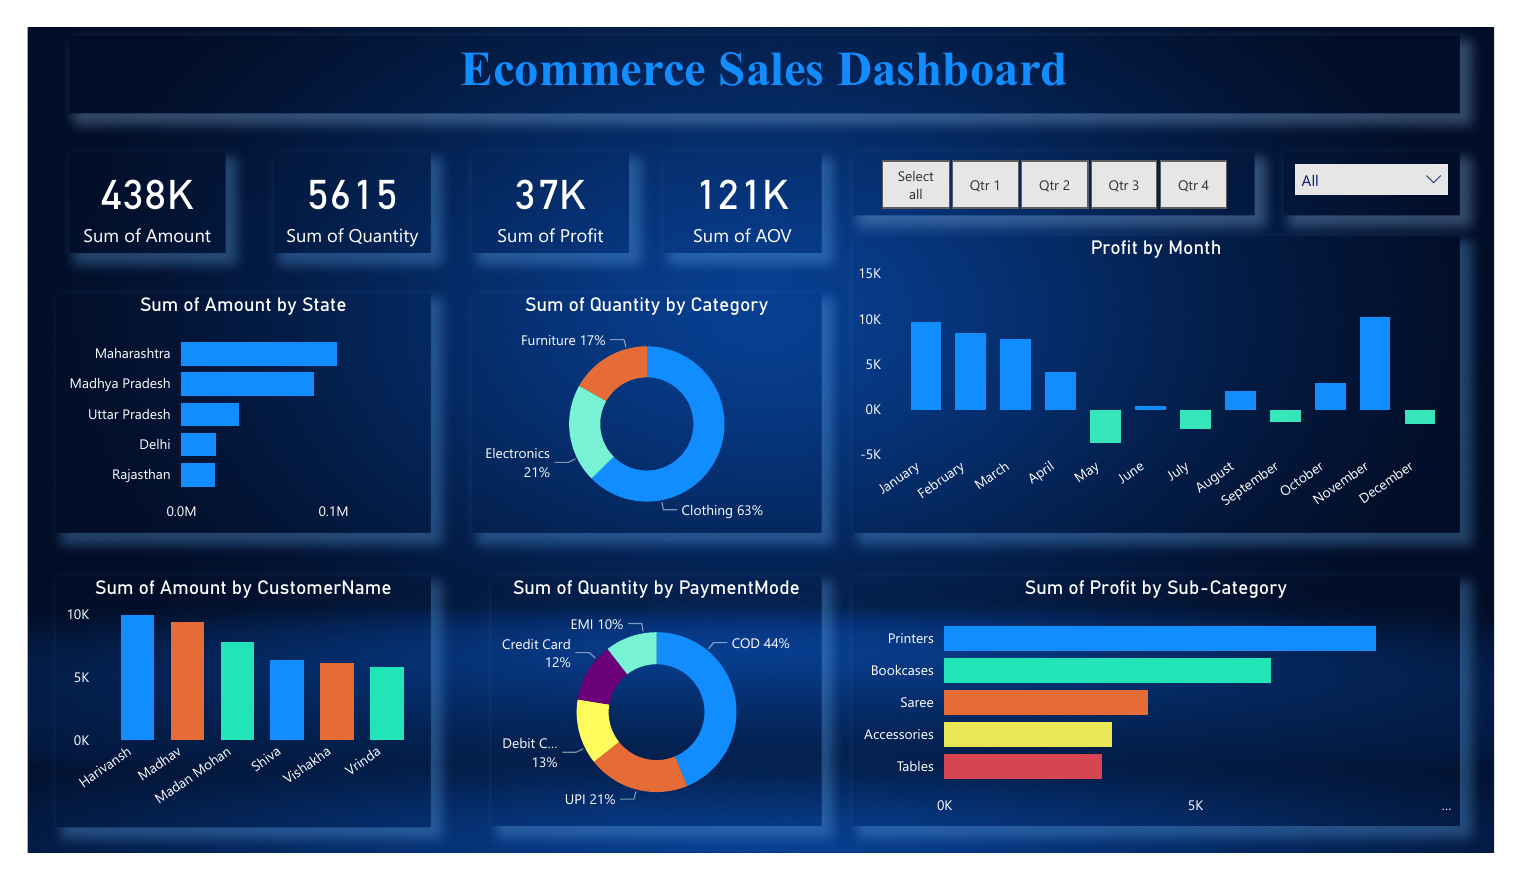

The dashboard page shown, as its layout file describes it:
{"tool":"powerbi","page":{"name":"Page 1","canvas":[1280,720],"ordinal":0},"visuals":[{"type":"textbox","box":[36,6.8,1213.9,68.1],"z":0},{"type":"columnChart","title":"Profit by Month","fields":{"Category":["Orders.Order Date.Variation.Date Hierarchy.Month"],"Y":["Sum(Details.Profit)"]},"box":[719.8,181.9,530.1,258.7],"z":1000},{"type":"barChart","fields":{"Category":["Details.Sub-Category"],"Y":["Sum(Details.Profit)"]},"box":[719.8,478.5,530.1,218.8],"z":2000},{"type":"donutChart","fields":{"Category":["Details.Category"],"Y":["Sum(Details.Quantity)"]},"box":[388.1,232.5,304.4,208.1],"z":3000},{"type":"donutChart","fields":{"Category":["Details.PaymentMode"],"Y":["Sum(Details.Quantity)"]},"box":[404.6,478.5,287.9,218.8],"z":4000},{"type":"card","fields":{"Values":["Sum(Details.Amount)"]},"box":[36,108.9,137,88.5],"z":5000},{"type":"card","fields":{"Values":["Sum(Details.Quantity)"]},"box":[215,108.9,137.1,88.5],"z":6000},{"type":"card","fields":{"Values":["Sum(Details.Profit)"]},"box":[388.1,108.9,137.1,88.5],"z":7000},{"type":"card","fields":{"Values":["Sum(Details.AOV)"]},"box":[555.4,108.9,137.1,88.5],"z":8000},{"type":"barChart","fields":{"Category":["Orders.State"],"Y":["Sum(Details.Amount)"]},"box":[25.3,232.5,326.8,208.1],"z":9000},{"type":"columnChart","fields":{"Category":["Orders.CustomerName"],"Y":["Sum(Details.Amount)"]},"box":[25,479,327,219],"z":10000},{"type":"slicer","fields":{"Values":["Orders.Order Date.Variation.Date Hierarchy.Quarter"]},"box":[719.8,108.9,351.1,55.4],"z":11000},{"type":"slicer","fields":{"Values":["Orders.State"]},"box":[1096.2,108.9,153.7,55.4],"z":12000}]}

Visuals, with their boxes in screenshot pixels (x1, y1, x2, y2), scaled from the page's 1280x720 canvas onto the 1522x880 screenshot:
textbox: (43,8,1486,92)
"Profit by Month" columnChart: (856,222,1486,539)
barChart - Details.Sub-Category x Sum(Details.Profit): (856,585,1486,852)
donutChart - Details.Category x Sum(Details.Quantity): (461,284,823,539)
donutChart - Details.PaymentMode x Sum(Details.Quantity): (481,585,823,852)
card - Sum(Details.Amount): (43,133,206,241)
card - Sum(Details.Quantity): (256,133,419,241)
card - Sum(Details.Profit): (461,133,624,241)
card - Sum(Details.AOV): (660,133,823,241)
barChart - Orders.State x Sum(Details.Amount): (30,284,419,539)
columnChart - Orders.CustomerName x Sum(Details.Amount): (30,585,419,853)
slicer - Orders.Order Date.Variation.Date Hierarchy.Quarter: (856,133,1273,201)
slicer - Orders.State: (1303,133,1486,201)
